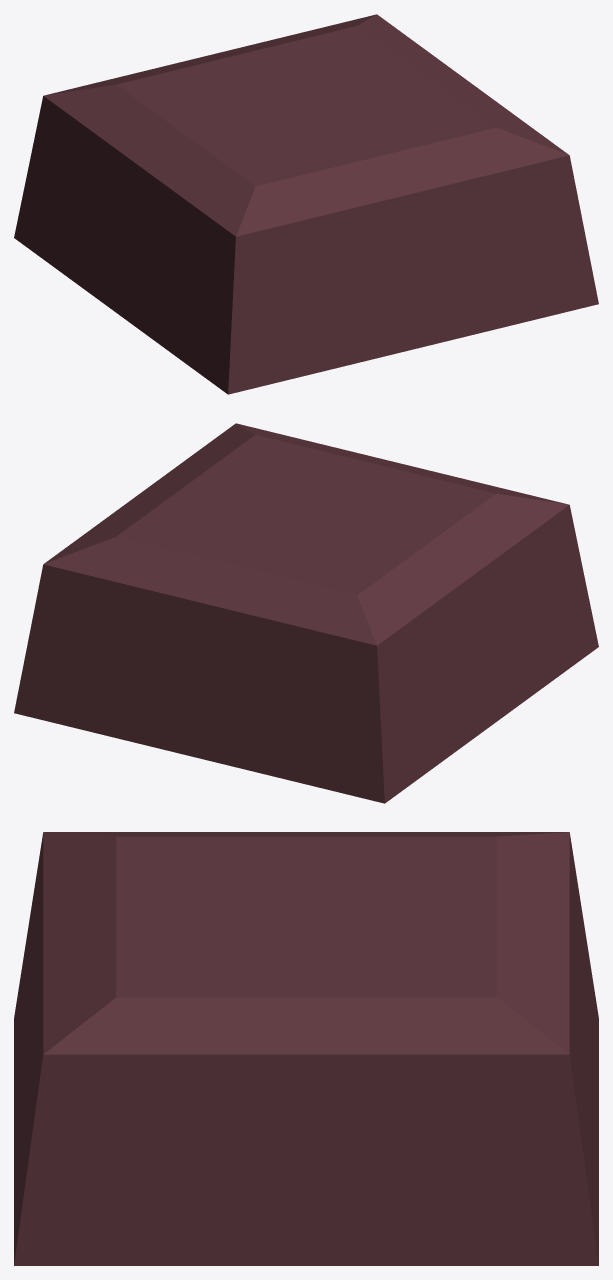
Rendered from obelisc5.fbx.
3 views of the same model, one above another, from view 1: azimuth 30°, elevation 25°; view 2: azimuth 150°, elevation 25°; view 3: azimuth 270°, elevation 25° (orthographic). The views are drawn at different scales.
Parts seen in each view (by area): view 1: obelisk-old.001; view 2: obelisk-old.001; view 3: obelisk-old.001.
Part boxes in pixels (x1,y1,x2,y2): obelisk-old.001: (14, 14, 598, 394); obelisk-old.001: (14, 423, 598, 803); obelisk-old.001: (14, 832, 598, 1265).
Size of the model in its own units: 400 by 170 by 400.
